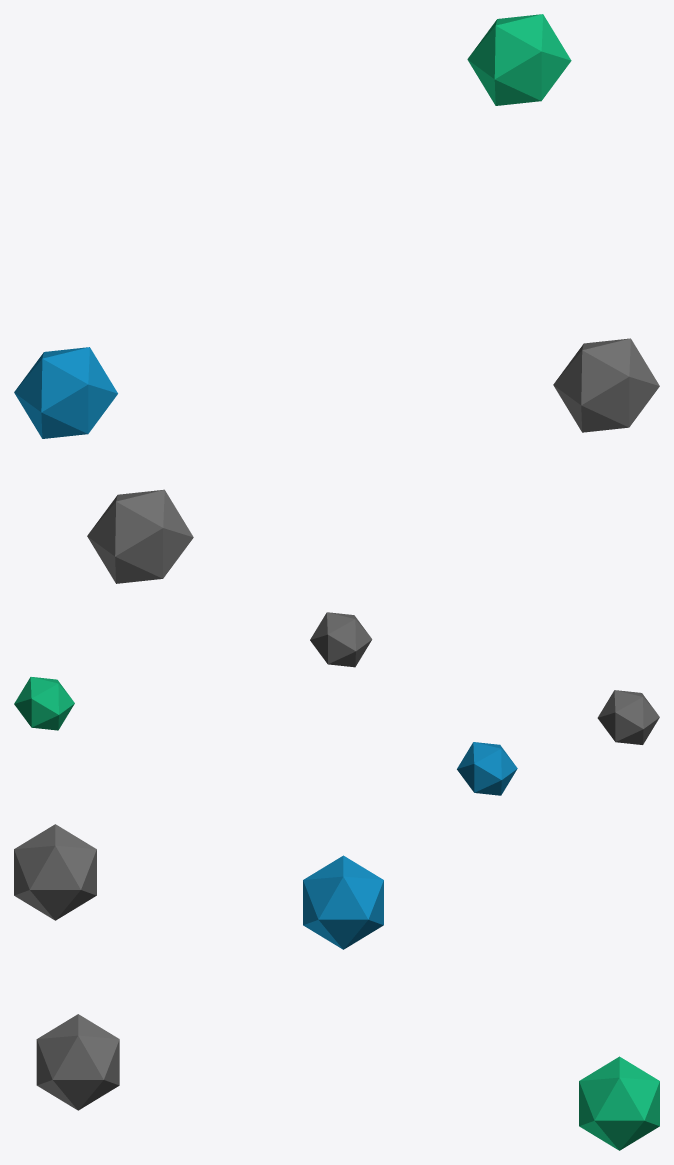
The picture shows the model from 3 angles, top to bottom: view 1: azimuth 30°, elevation 25°; view 2: azimuth 150°, elevation 25°; view 3: azimuth 270°, elevation 25°; orthographic projection. The views are drawn at different scales.
Visible parts, largest first — view 1: 01_09_00; view 2: 01_09_00; view 3: 01_09_00.
Boxes of the visible parts, x1,y1,x2,y2 form: 01_09_00: (14,14,659,583); 01_09_00: (14,612,659,795); 01_09_00: (14,824,659,1150).
Bounding box in the file's own units: 0.541 × 0.1105 × 0.4333.
